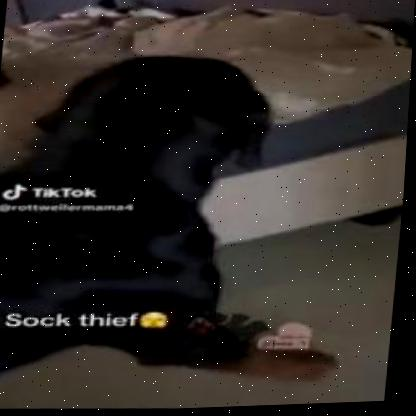dog: (0, 35, 369, 415)
